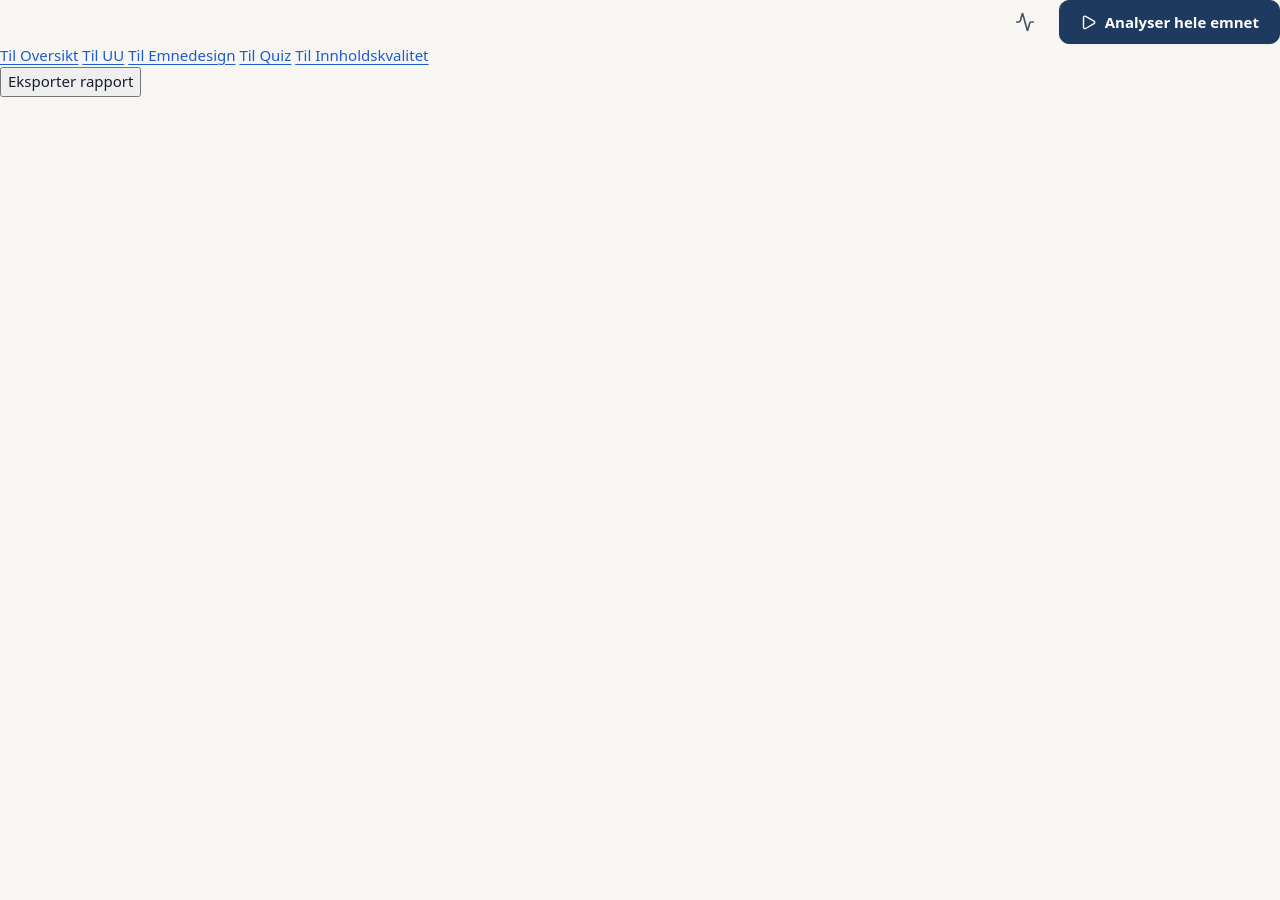
Test: one analysis button that follows the page › on Oversikt the dialog offers the areas and a full analysis
Click the button "Analyser hele emnet" at (1169, 22), box x1=1059 y1=0 x2=1279 y2=44
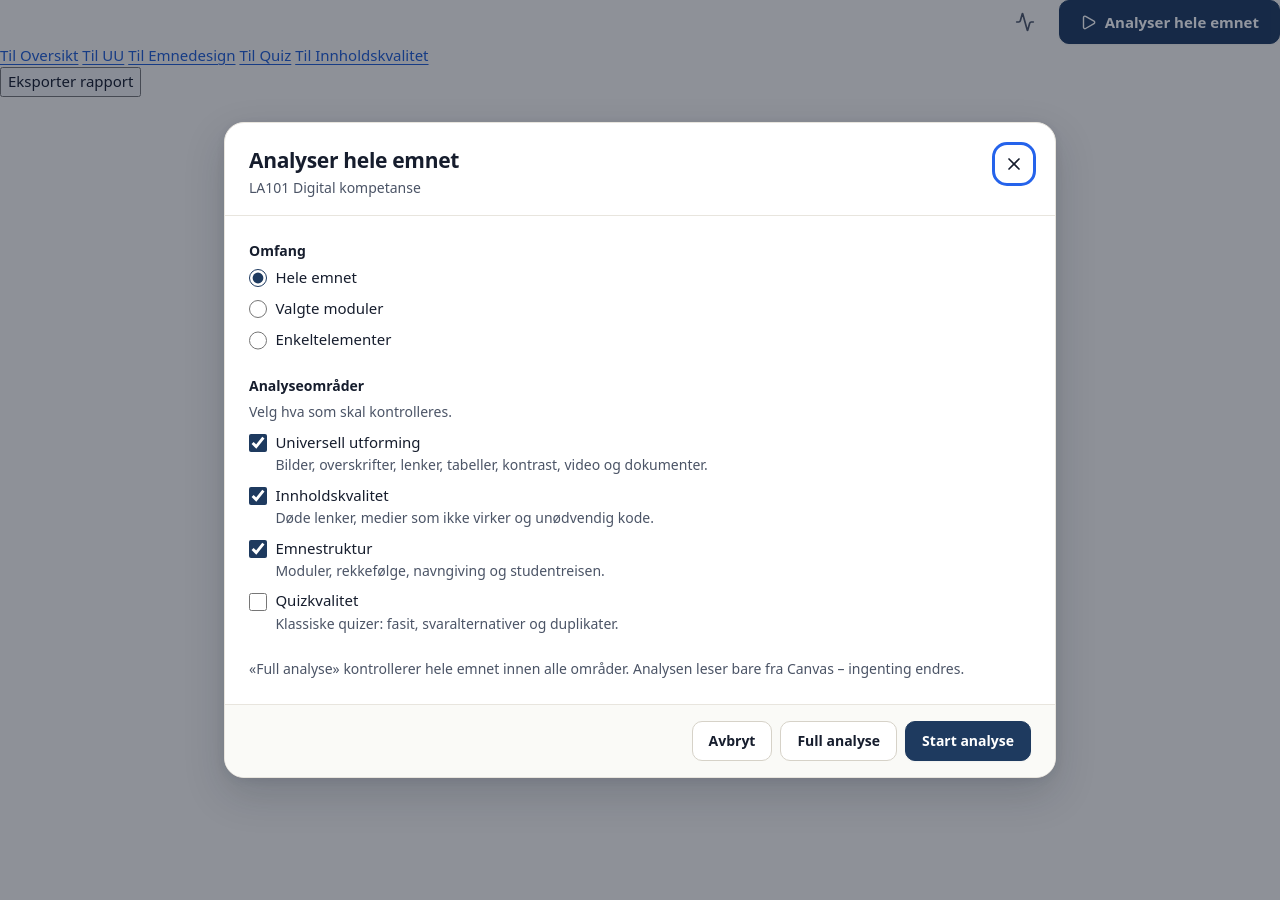
Now the button "Full analyse" is shown, box x1=780 y1=721 x2=897 y2=761
